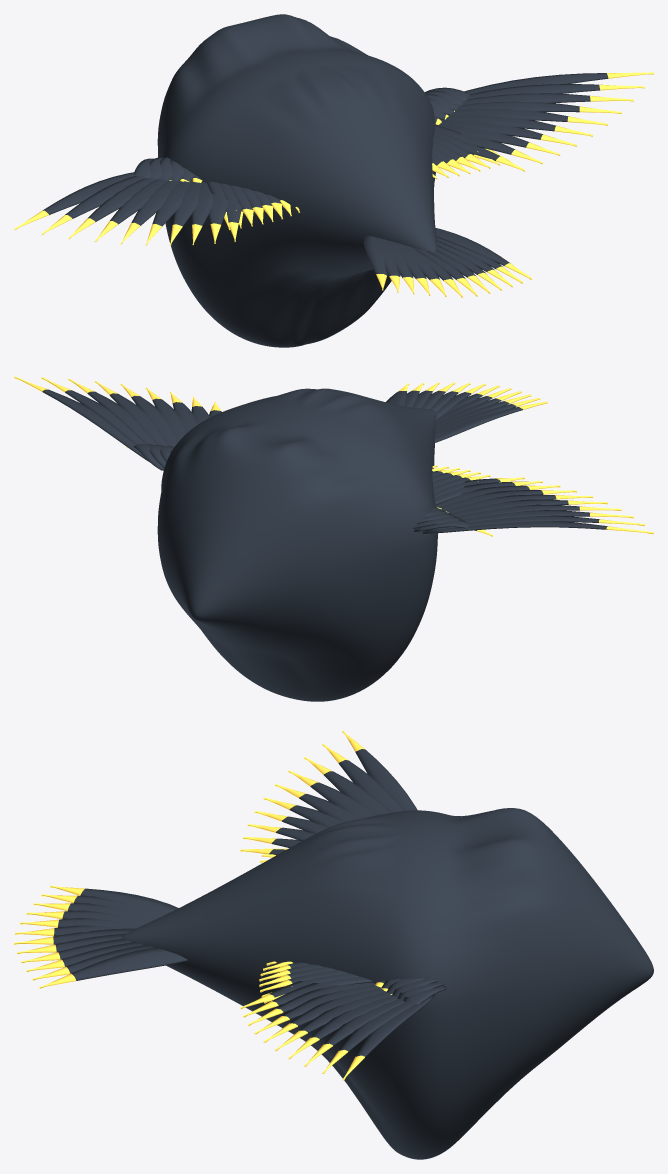
Rendered from halcon_sotd_pbr.glb.
3 renders of one model, top to bottom at view 1: azimuth 30°, elevation 25°; view 2: azimuth 150°, elevation 25°; view 3: azimuth 270°, elevation 25°, orthographic. The views are drawn at different scales.
Visible parts, largest first — view 1: Falcon_Body, Primary_R_0, Primary_R_1, Primary_R_2, Primary_R_3, Primary_R_4, Primary_L_0, Primary_R_5, Primary_L_1, Primary_R_6, Primary_L_2, Primary_L_3 (+15 smaller); view 2: Falcon_Body, Primary_L_0, Primary_R_0, Primary_L_1, Primary_R_1, Primary_R_2, Primary_R_3, Primary_L_2, Primary_L_3, Primary_R_4, Primary_L_4, Tail_Rectrix_0 (+6 smaller); view 3: Falcon_Body, Tail_Rectrix_11, Primary_L_0, Primary_L_1, Tail_Rectrix_0, Primary_R_0, Primary_L_2, Primary_R_1, Primary_R_2, Primary_R_3, Primary_R_4, Primary_L_3 (+15 smaller).
Boxes of the visible parts, box(x1,y1,x2,y2) form: Falcon_Body: box(157, 14, 436, 347); Primary_R_0: box(464, 72, 653, 94); Primary_R_1: box(467, 84, 644, 99); Primary_R_2: box(462, 93, 633, 105); Primary_R_3: box(455, 101, 621, 113); Primary_R_4: box(448, 109, 607, 125); Primary_L_0: box(14, 172, 135, 230); Primary_R_5: box(439, 115, 592, 136); Primary_L_1: box(41, 176, 145, 234); Primary_R_6: box(436, 120, 576, 146); Primary_L_2: box(68, 178, 156, 239); Primary_L_3: box(94, 179, 169, 241); Falcon_Body: box(157, 388, 437, 701); Primary_L_0: box(423, 521, 653, 534); Primary_R_0: box(14, 376, 163, 470); Primary_L_1: box(425, 515, 644, 531); Primary_R_1: box(41, 377, 145, 444); Primary_R_2: box(68, 378, 156, 444); Primary_R_3: box(94, 381, 168, 445); Primary_L_2: box(462, 510, 633, 522); Primary_L_3: box(457, 504, 621, 519); Primary_R_4: box(120, 383, 177, 446); Primary_L_4: box(451, 499, 607, 516); Tail_Rectrix_0: box(434, 401, 547, 442); Falcon_Body: box(121, 808, 653, 1159); Tail_Rectrix_11: box(39, 947, 187, 988); Primary_L_0: box(342, 730, 417, 810); Primary_L_1: box(322, 743, 404, 812); Tail_Rectrix_0: box(50, 885, 178, 913); Primary_R_0: box(342, 994, 434, 1080); Primary_L_2: box(304, 757, 390, 814); Primary_R_1: box(322, 1002, 413, 1073); Primary_R_2: box(304, 999, 404, 1066); Primary_R_3: box(288, 995, 397, 1059); Primary_R_4: box(275, 991, 391, 1051); Primary_L_3: box(288, 770, 377, 818).
Size of the model in its own units: 5.19 by 2.23 by 4.03.
